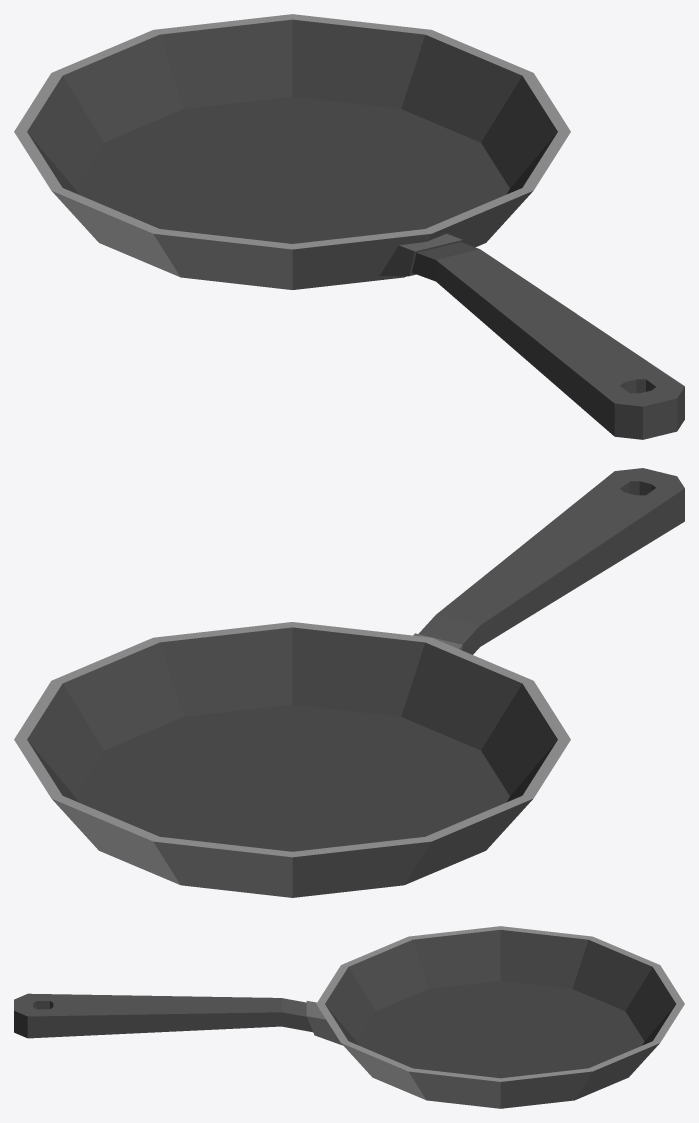
The model's file is SM_Food_Pan_02.fbx.
The picture shows the model from 3 angles, top to bottom: view 1: azimuth 30°, elevation 25°; view 2: azimuth 150°, elevation 25°; view 3: azimuth 270°, elevation 25°; orthographic projection. The views are drawn at different scales.
Parts seen in each view (by area): view 1: SM_Food_Pan_02; view 2: SM_Food_Pan_02; view 3: SM_Food_Pan_02.
Boxes of the visible parts, left/top/right/bottom form: SM_Food_Pan_02: left=14, top=14, right=684, bottom=439; SM_Food_Pan_02: left=14, top=468, right=684, bottom=897; SM_Food_Pan_02: left=14, top=926, right=684, bottom=1108.
Size of the model in its own units: 0.2792 by 0.0353 by 0.5082.
